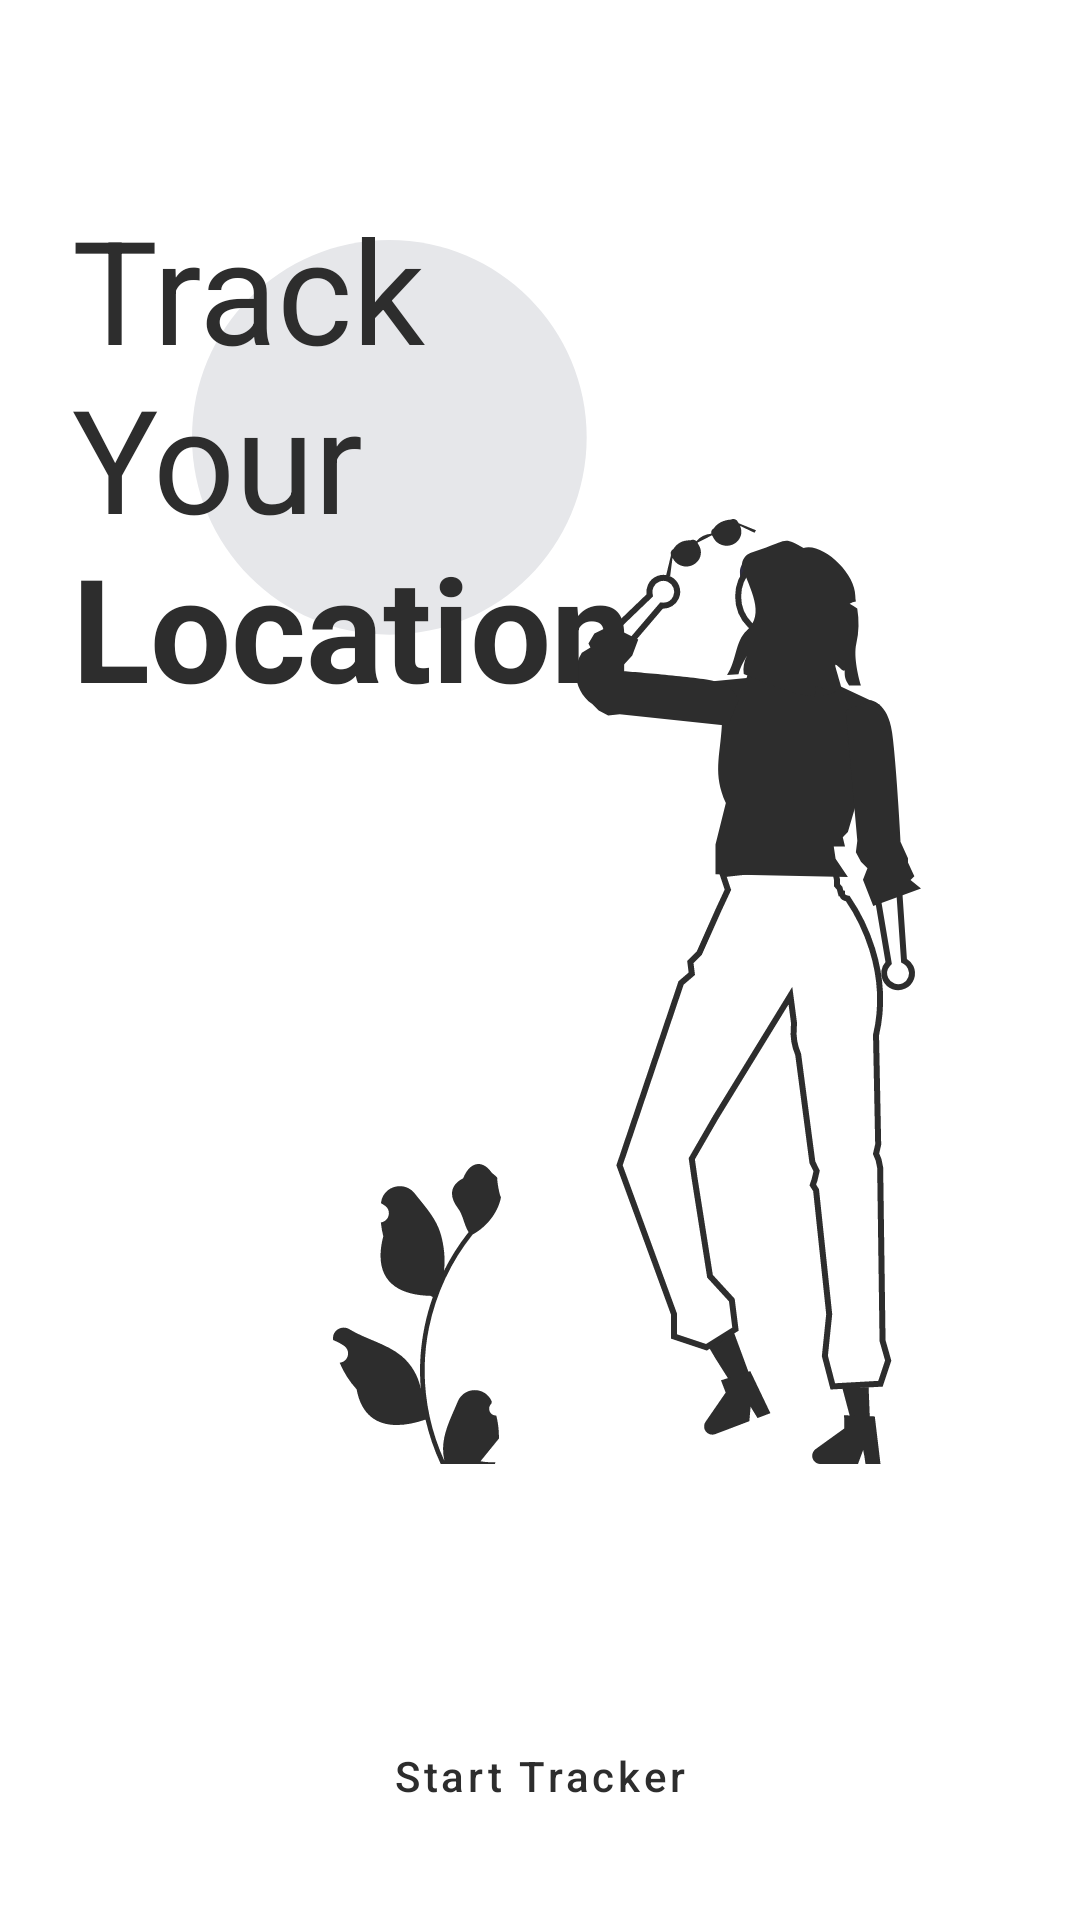

Named icons in this screenshot (1080 × 1920) and their centers, [x,y]:
picture of a plant: [417,1314]
